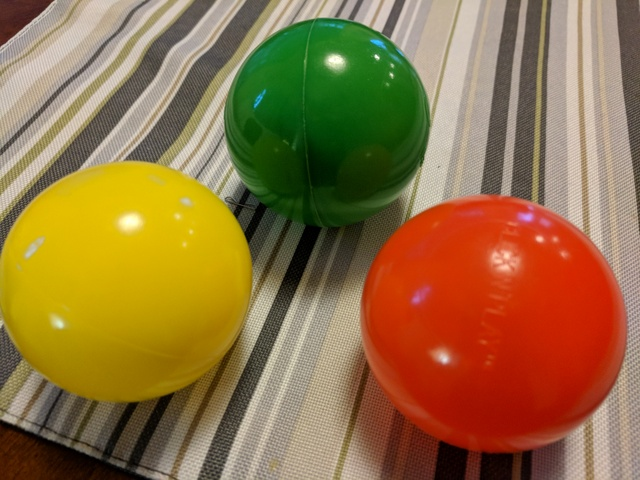Ball: (227, 17, 433, 222)
